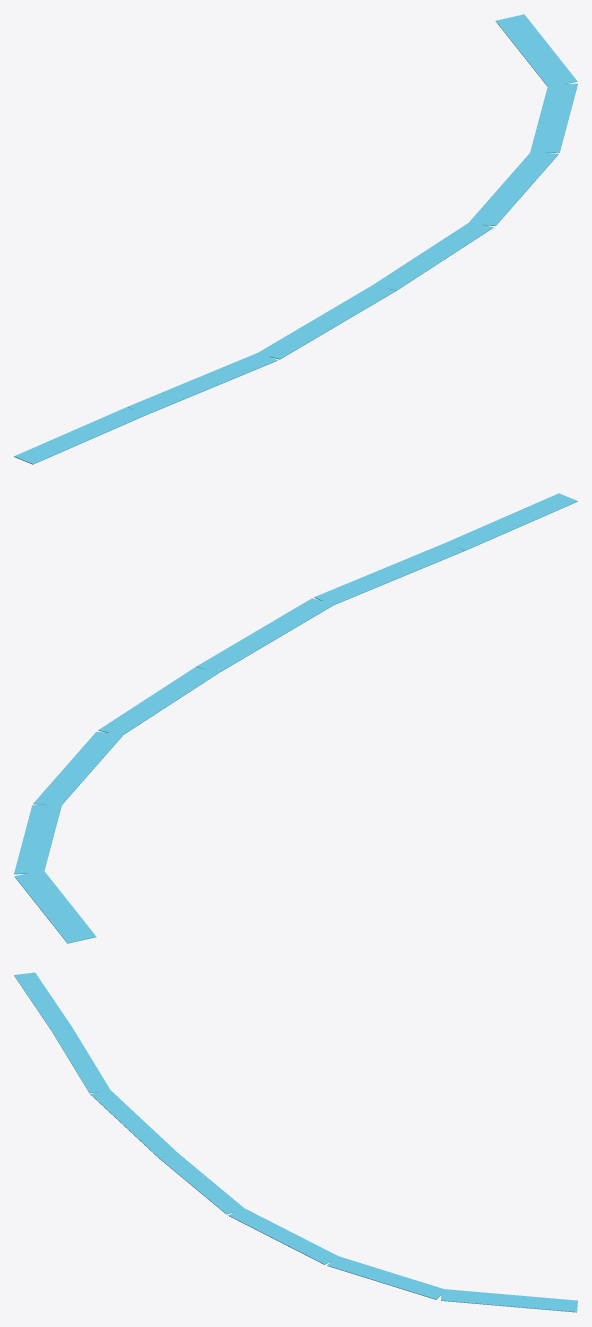
The model's file is rio_principal_lev1.glb.
3 renders of one model, top to bottom at view 1: azimuth 30°, elevation 25°; view 2: azimuth 210°, elevation 25°; view 3: azimuth 270°, elevation 25°, orthographic. The views are drawn at different scales.
Visible parts, largest first — view 1: rio_principal_lev1; view 2: rio_principal_lev1; view 3: rio_principal_lev1.
Part boxes in pixels (x1=…): rio_principal_lev1: x1=14, y1=14, x2=577, y2=464; rio_principal_lev1: x1=14, y1=493, x2=577, y2=943; rio_principal_lev1: x1=14, y1=972, x2=577, y2=1312.
Bounding box in the file's own units: 56.37 × 0.04 × 39.56.
